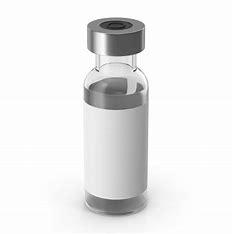Syringe: (72, 14, 157, 218)
